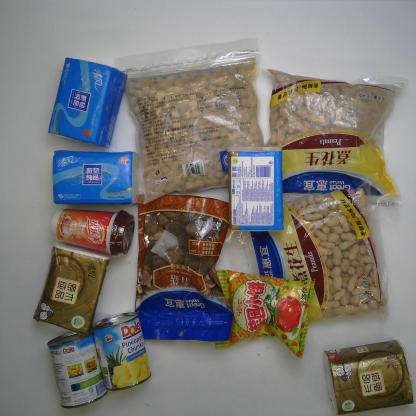Canned Food: (47, 329, 108, 409), (92, 311, 152, 391)
Dried Food: (113, 36, 266, 205), (224, 175, 391, 325), (266, 66, 410, 209), (134, 193, 235, 344)
Instant Drink: (50, 207, 136, 258)
Puffed Food: (214, 268, 316, 361)
Tissue: (47, 58, 127, 148), (33, 244, 111, 336), (323, 339, 414, 415), (52, 149, 142, 206), (226, 145, 284, 232)
